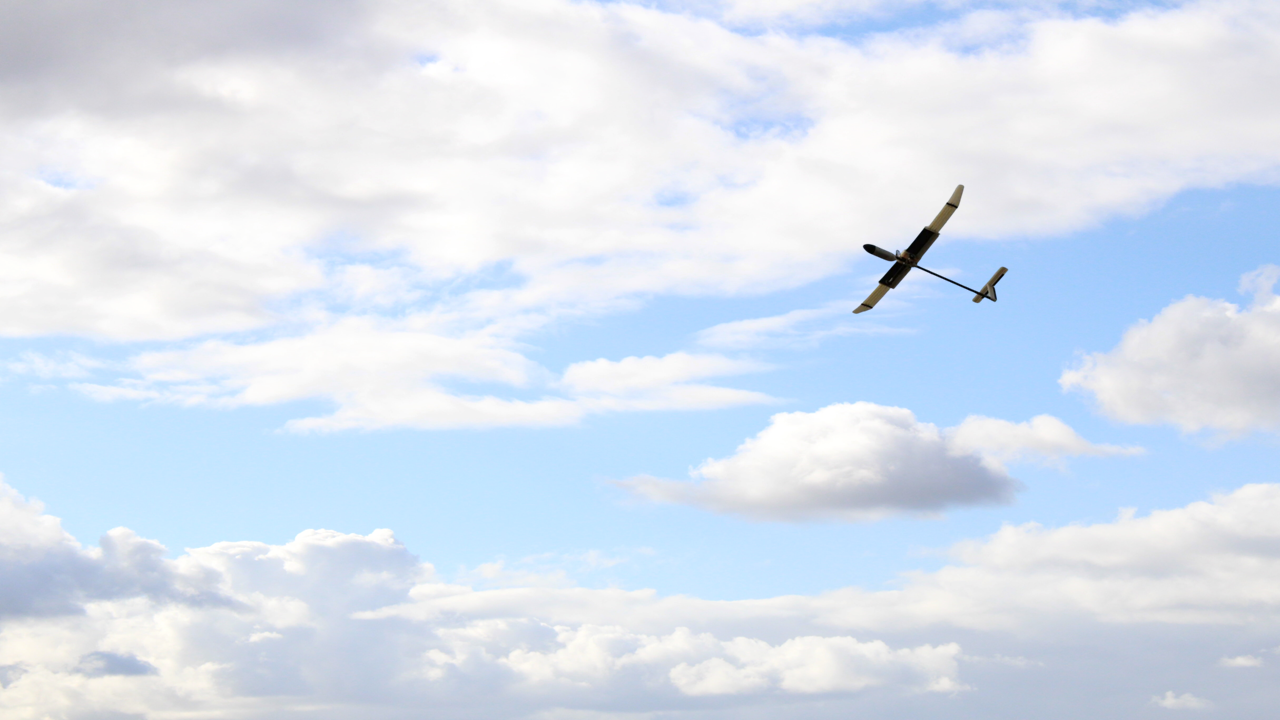military drone: (852, 184, 1008, 314)
